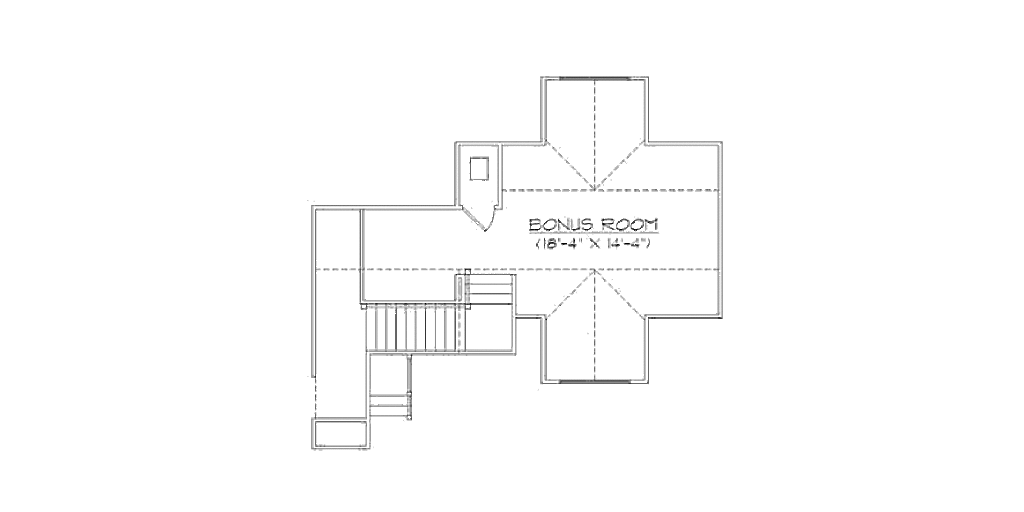door: (464, 197, 508, 237)
stairs: (362, 262, 522, 362), (361, 354, 431, 420)
window: (550, 65, 629, 91), (554, 373, 638, 388)
